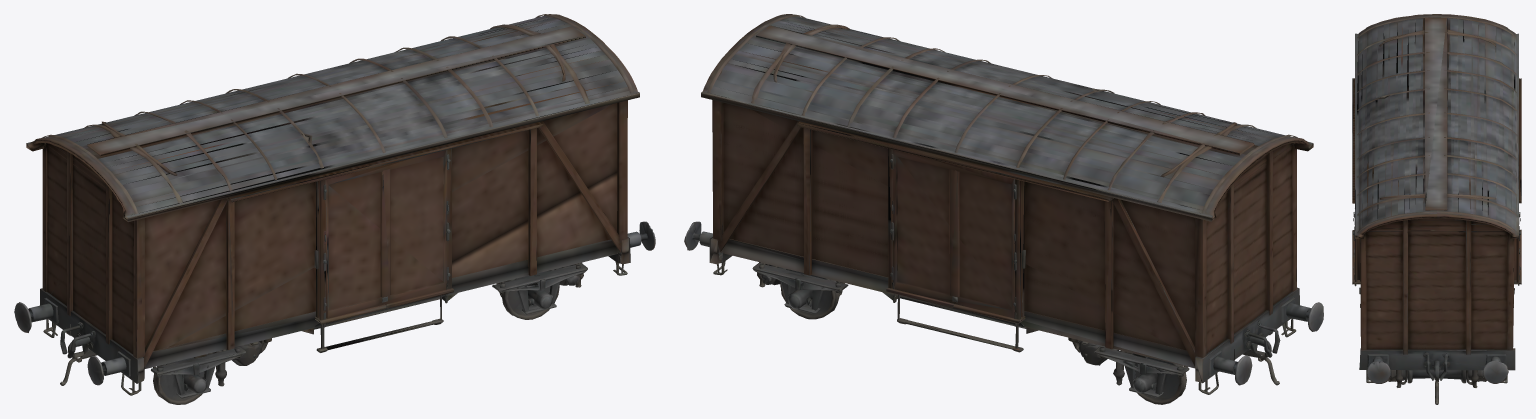
File: wagon_cargo_old.glb
3 renders of one model, left to right at view 1: azimuth 30°, elevation 25°; view 2: azimuth 150°, elevation 25°; view 3: azimuth 270°, elevation 25°, orthographic. The views are drawn at different scales.
Bounding box in the file's own units: 0.9575 × 0.4106 × 0.313.
1 material, 1 textured.
